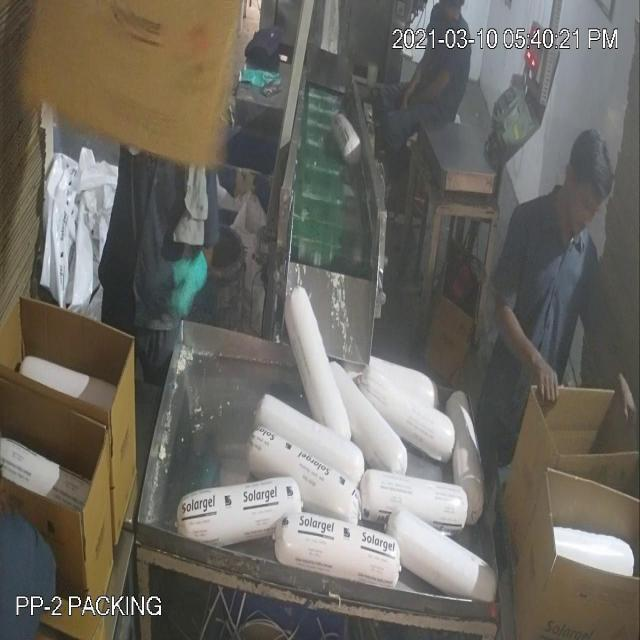No_Gloves: (50, 68, 613, 372)
